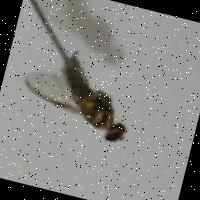Oriental-fruit-fly: (7, 26, 150, 154)
